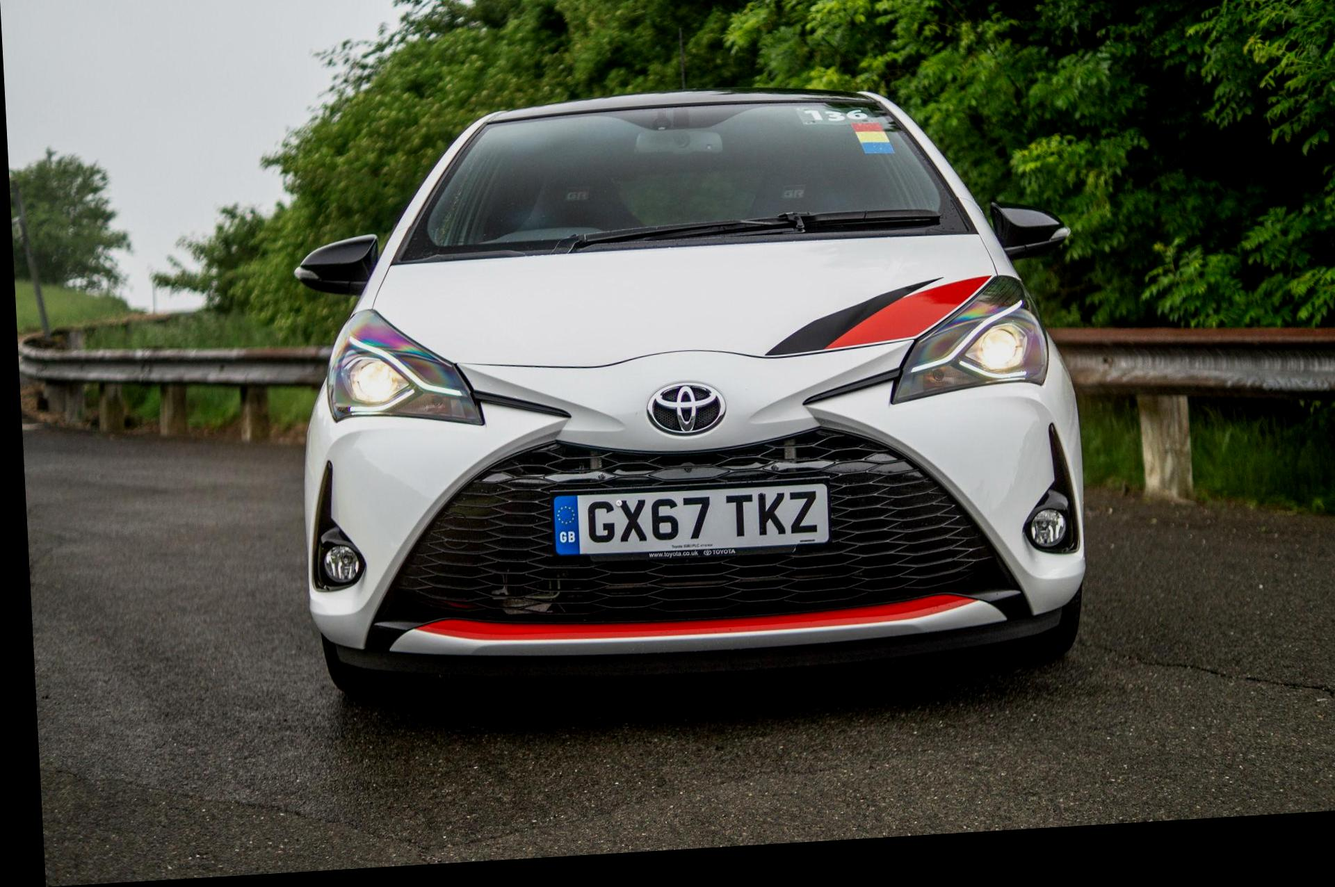License_Plate: (540, 465, 842, 570)
